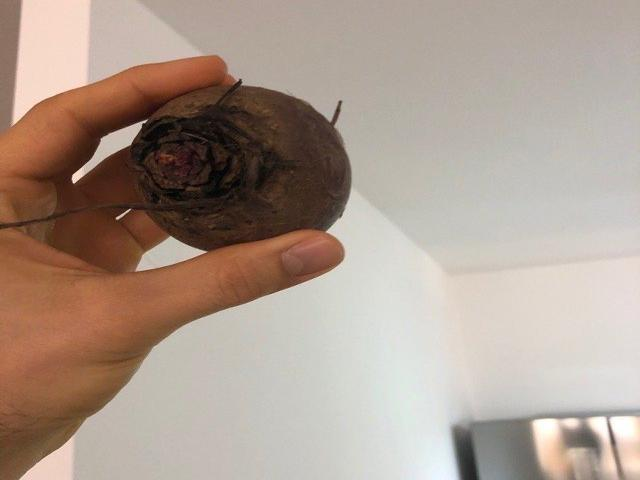beet: (2, 78, 353, 254)
